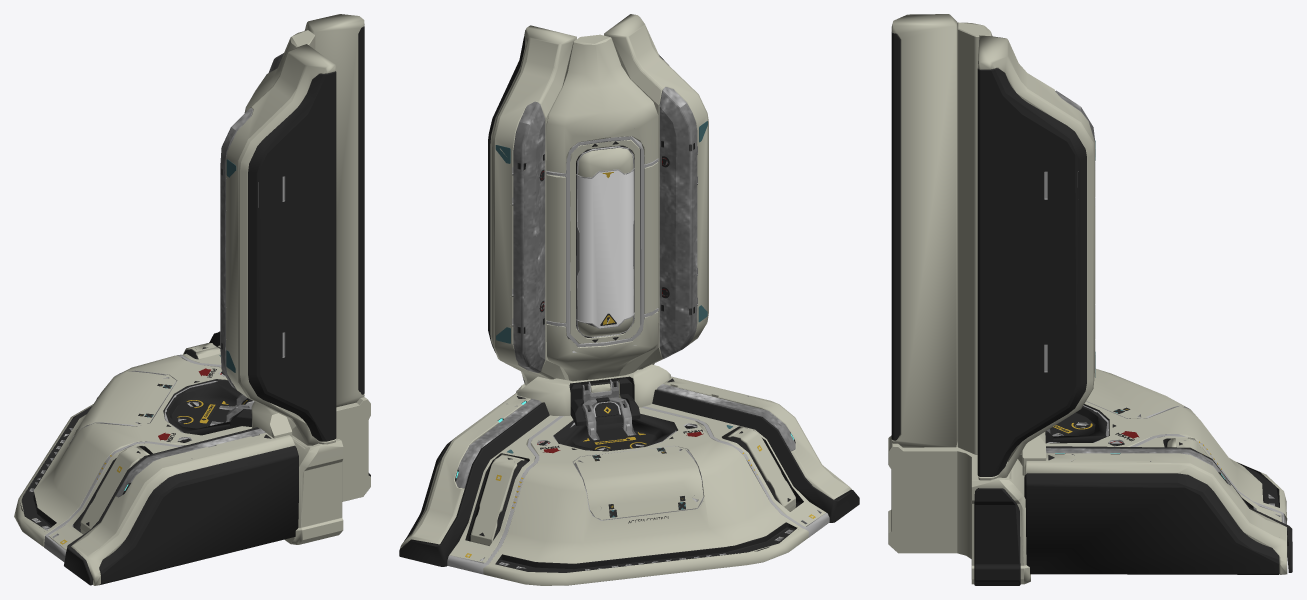
The model's file is corner.glb.
The picture shows the model from 3 angles, left to right: view 1: azimuth 30°, elevation 25°; view 2: azimuth 150°, elevation 25°; view 3: azimuth 270°, elevation 25°; orthographic projection. The views are drawn at different scales.
Visible parts, largest first — view 1: Cube.019_Piece.002_Piece.004_Piece.007; view 2: Cube.019_Piece.002_Piece.004_Piece.007; view 3: Cube.019_Piece.002_Piece.004_Piece.007.
Boxes of the visible parts, x1,y1,x2,y2 form: Cube.019_Piece.002_Piece.004_Piece.007: (14,14,370,585); Cube.019_Piece.002_Piece.004_Piece.007: (399,14,859,585); Cube.019_Piece.002_Piece.004_Piece.007: (888,14,1292,585).
Bounding box in the file's own units: 2 × 2.86 × 1.99.
10 materials, 1 textured.
